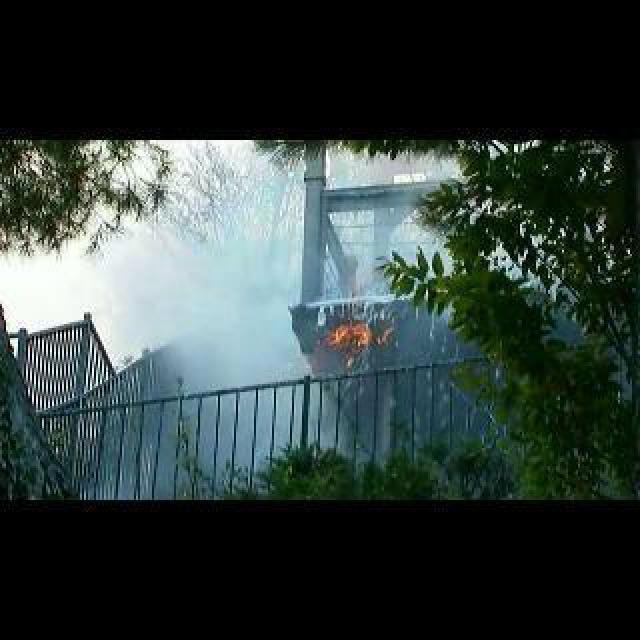Fire: (304, 314, 382, 348)
